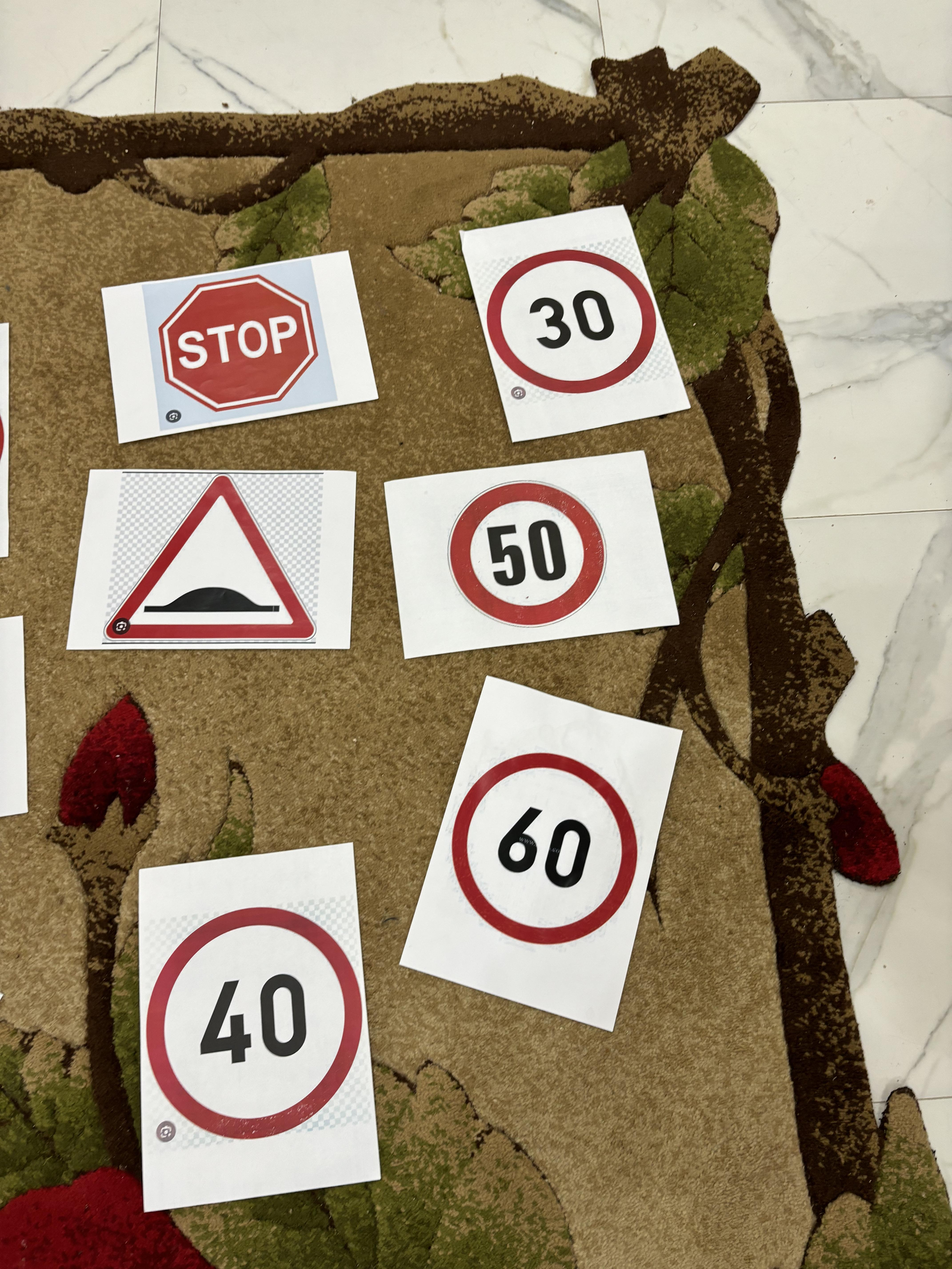30-speed: (472, 249, 672, 396)
50-Speed: (145, 900, 367, 1144), (442, 745, 645, 949), (443, 471, 618, 630)
Hump: (99, 474, 323, 646)
Stop: (155, 269, 327, 415)
